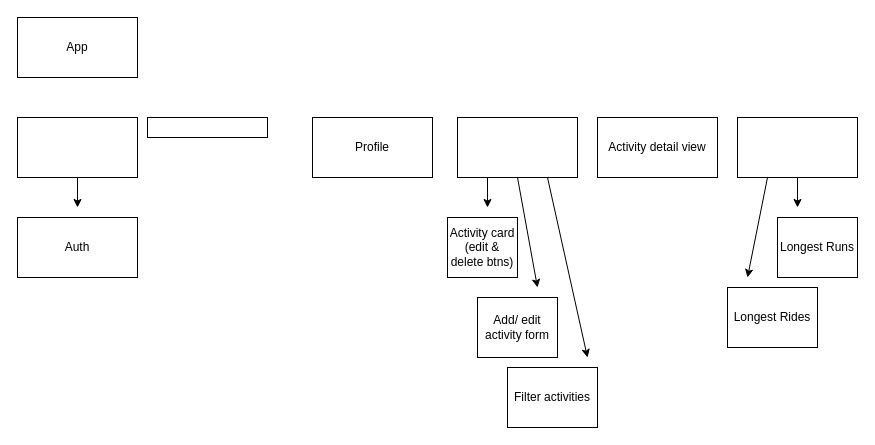
The diagram is 875 pixels wide and 445 high, and some of its shapes have lost their labels. The centre of each missing label's shape, as x and y in pixels:
"Activity list" belongs at (517,147).
"Login" belongs at (77,147).
"Logout" belongs at (207,127).
"Sports leaderboards" belongs at (797,147).
